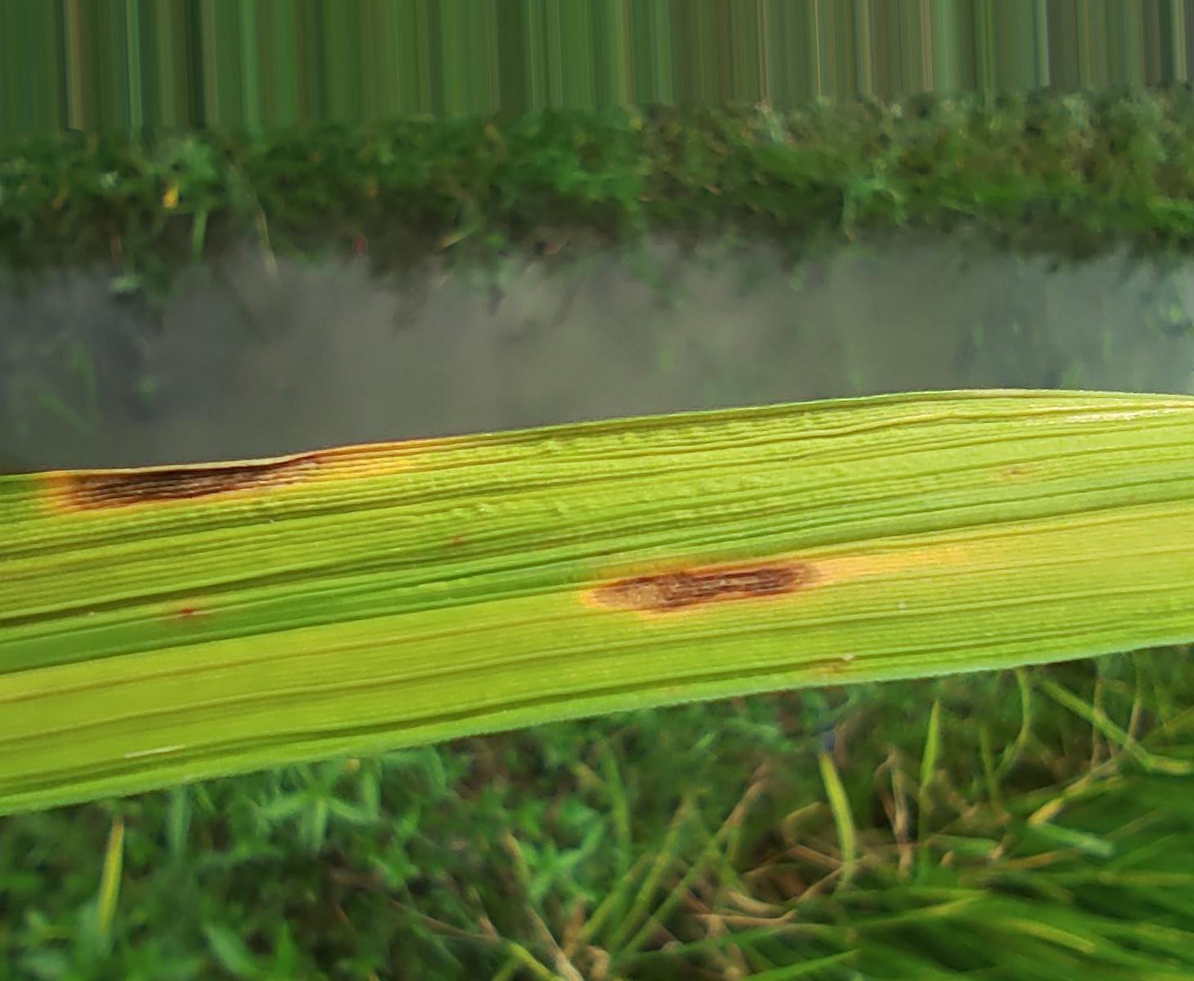LEAF: (0, 390, 1193, 814)
NBS: (59, 454, 321, 508), (592, 561, 819, 612), (828, 662, 847, 676), (178, 607, 196, 619), (452, 535, 468, 546), (1010, 470, 1023, 475)
